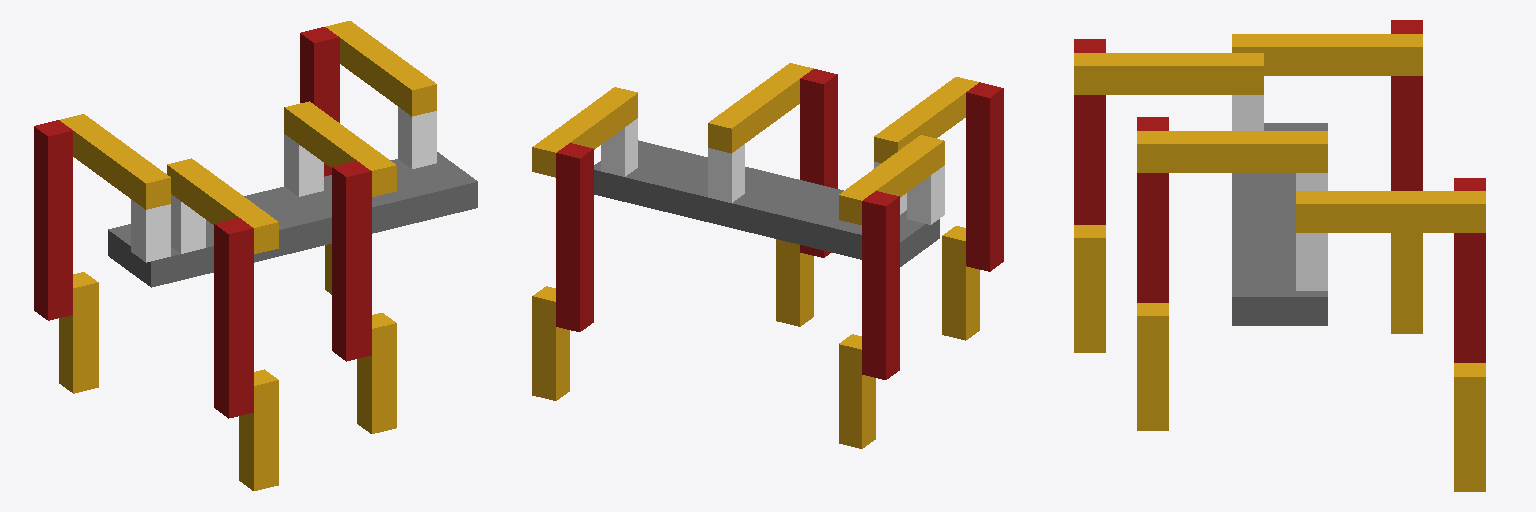
robot.urdf — v0:
<?xml version="1.0" encoding="utf-8"?>
<!-- =================================================================================== -->
<!-- |    This document was autogenerated by xacro from ../robots/v0variants/xacros/v0_4l_15.xacro | -->
<!-- |    EDITING THIS FILE BY HAND IS NOT RECOMMENDED                                 | -->
<!-- =================================================================================== -->
<robot name="v0">
  <material name="grey">
    <color rgba="0.5 0.5 0.5 1"/>
  </material>
  <material name="white">
    <color rgba="1 1 1 1"/>
  </material>
  <material name="yellow">
    <color rgba="0.91 0.7 0.14 1"/>
  </material>
  <material name="red">
    <color rgba="0.71 0.14 0.14 1"/>
  </material>
  <link name="body">
    <visual>
      <geometry>
        <box size="1.3 0.3 0.1"/>
      </geometry>
      <material name="grey"/>
      <origin rpy="0 0 0" xyz="0 0 0.7"/>
    </visual>
    <collision>
      <geometry>
        <box size="1.3 0.3 0.1"/>
      </geometry>
      <origin rpy="0 0 0" xyz="0 0 0.7"/>
    </collision>
    <inertial>
      <mass value="99.84"/>
      <inertia ixx="0.832" ixy="0.0" ixz="0.0" iyy="14.144" iyz="0.0" izz="14.8096"/>
    </inertial>
  </link>
  <link name="l1_segment_1">
    <visual>
      <geometry>
        <box size="0.1 0.1 0.2"/>
      </geometry>
      <material name="white"/>
      <origin rpy="0 0 0" xyz="0 0 0.1"/>
    </visual>
    <collision>
      <geometry>
        <box size="0.1 0.1 0.2"/>
      </geometry>
      <origin rpy="0 0 0" xyz="0 0 0.1"/>
    </collision>
    <inertial>
      <mass value="5.12"/>
      <inertia ixx="0.0213333333333" ixy="0.0" ixz="0.0" iyy="0.0213333333333" iyz="0.0" izz="0.00853333333333"/>
    </inertial>
  </link>
  <joint name="l1_base_to_joint_1" type="fixed">
    <parent link="body"/>
    <child link="l1_segment_1"/>
    <origin rpy="0 0 0" xyz="0.5525834745017667 0.1 0.75"/>
  </joint>
  <link name="l1_segment_2_HIP">
    <visual>
      <geometry>
        <box size="0.1 0.6 0.1"/>
      </geometry>
      <material name="yellow"/>
      <origin rpy="0 0 0" xyz="0 0.25 0"/>
    </visual>
    <collision>
      <geometry>
        <box size="0.1 0.6 0.1"/>
      </geometry>
      <origin rpy="0 0 0" xyz="0 0.25 0"/>
    </collision>
    <inertial>
      <mass value="15.36"/>
      <inertia ixx="0.4736" ixy="0.0" ixz="0.0" iyy="0.0256" iyz="0.0" izz="0.4736"/>
    </inertial>
  </link>
  <joint name="l1_joint_1_to_2" type="revolute">
    <parent link="l1_segment_1"/>
    <child link="l1_segment_2_HIP"/>
    <origin rpy="0 0 0" xyz="0 0 0.25"/>
    <axis xyz="0.0 0.0 1.0"/>
    <limit effort="2048" lower="-1.2" upper="1.2" velocity="20"/>
  </joint>
  <link name="l1_segment_3_THIGH">
    <visual>
      <geometry>
        <box size="0.1 0.1 0.7"/>
      </geometry>
      <material name="red"/>
      <origin rpy="0 0 0" xyz="0 0 -0.3"/>
    </visual>
    <collision>
      <geometry>
        <box size="0.1 0.1 0.7"/>
      </geometry>
      <origin rpy="0 0 0" xyz="0 0 -0.3"/>
    </collision>
    <inertial>
      <mass value="17.92"/>
      <inertia ixx="0.746666666667" ixy="0.0" ixz="0.0" iyy="0.746666666667" iyz="0.0" izz="0.0298666666667"/>
    </inertial>
  </link>
  <joint name="l1_joint_2_to_3" type="revolute">
    <parent link="l1_segment_2_HIP"/>
    <child link="l1_segment_3_THIGH"/>
    <origin rpy="0 0 0" xyz="-0.1 0.5 0"/>
    <axis xyz="1.0 0.0 0.0"/>
    <limit effort="2048" lower="-0.2" upper="0.75" velocity="20"/>
  </joint>
  <link name="l1_segment_4_FOOT">
    <visual>
      <geometry>
        <box size="0.1 0.1 0.4"/>
      </geometry>
      <material name="yellow"/>
      <origin rpy="0 0 0" xyz="0 0 -0.2"/>
    </visual>
    <collision>
      <geometry>
        <box size="0.1 0.1 0.4"/>
      </geometry>
      <origin rpy="0 0 0" xyz="0 0 -0.2"/>
    </collision>
    <inertial>
      <mass value="10.24"/>
      <inertia ixx="0.145066666667" ixy="0.0" ixz="0.0" iyy="0.145066666667" iyz="0.0" izz="0.0170666666667"/>
    </inertial>
  </link>
  <joint name="l1_joint_3_to_4_FOOT" type="revolute">
    <parent link="l1_segment_3_THIGH"/>
    <child link="l1_segment_4_FOOT"/>
    <origin rpy="0 0 0" xyz="0.1 0 -0.55"/>
    <axis xyz="1.0 0.0 0.0"/>
    <limit effort="2048" lower="-0.2" upper="0.5" velocity="20"/>
  </joint>
  <link name="r2_segment_1">
    <visual>
      <geometry>
        <box size="0.1 0.1 0.2"/>
      </geometry>
      <material name="white"/>
      <origin rpy="0 0 0" xyz="0 0 0.1"/>
    </visual>
    <collision>
      <geometry>
        <box size="0.1 0.1 0.2"/>
      </geometry>
      <origin rpy="0 0 0" xyz="0 0 0.1"/>
    </collision>
    <inertial>
      <mass value="5.12"/>
      <inertia ixx="0.0213333333333" ixy="0.0" ixz="0.0" iyy="0.0213333333333" iyz="0.0" izz="0.00853333333333"/>
    </inertial>
  </link>
  <joint name="r2_base_to_joint_1" type="fixed">
    <parent link="body"/>
    <child link="r2_segment_1"/>
    <origin rpy="0 0 0" xyz="0.10240938088572038 0.1 0.75"/>
  </joint>
  <link name="r2_segment_2_HIP">
    <visual>
      <geometry>
        <box size="0.1 0.6 0.1"/>
      </geometry>
      <material name="yellow"/>
      <origin rpy="0 0 0" xyz="0 -0.25 0"/>
    </visual>
    <collision>
      <geometry>
        <box size="0.1 0.6 0.1"/>
      </geometry>
      <origin rpy="0 0 0" xyz="0 -0.25 0"/>
    </collision>
    <inertial>
      <mass value="15.36"/>
      <inertia ixx="0.4736" ixy="0.0" ixz="0.0" iyy="0.0256" iyz="0.0" izz="0.4736"/>
    </inertial>
  </link>
  <joint name="r2_joint_1_to_2" type="revolute">
    <parent link="r2_segment_1"/>
    <child link="r2_segment_2_HIP"/>
    <origin rpy="0 0 0" xyz="0 0 0.25"/>
    <axis xyz="0.0 0.0 1.0"/>
    <limit effort="2048" lower="-1.2" upper="1.2" velocity="20"/>
  </joint>
  <link name="r2_segment_3_THIGH">
    <visual>
      <geometry>
        <box size="0.1 0.1 0.7"/>
      </geometry>
      <material name="red"/>
      <origin rpy="0 0 0" xyz="0 0 -0.3"/>
    </visual>
    <collision>
      <geometry>
        <box size="0.1 0.1 0.7"/>
      </geometry>
      <origin rpy="0 0 0" xyz="0 0 -0.3"/>
    </collision>
    <inertial>
      <mass value="17.92"/>
      <inertia ixx="0.746666666667" ixy="0.0" ixz="0.0" iyy="0.746666666667" iyz="0.0" izz="0.0298666666667"/>
    </inertial>
  </link>
  <joint name="r2_joint_2_to_3" type="revolute">
    <parent link="r2_segment_2_HIP"/>
    <child link="r2_segment_3_THIGH"/>
    <origin rpy="0 0 0" xyz="-0.1 -0.5 0"/>
    <axis xyz="1.0 0.0 0.0"/>
    <limit effort="2048" lower="-0.75" upper="0.2" velocity="20"/>
  </joint>
  <link name="r2_segment_4_FOOT">
    <visual>
      <geometry>
        <box size="0.1 0.1 0.4"/>
      </geometry>
      <material name="yellow"/>
      <origin rpy="0 0 0" xyz="0 0 -0.2"/>
    </visual>
    <collision>
      <geometry>
        <box size="0.1 0.1 0.4"/>
      </geometry>
      <origin rpy="0 0 0" xyz="0 0 -0.2"/>
    </collision>
    <inertial>
      <mass value="10.24"/>
      <inertia ixx="0.145066666667" ixy="0.0" ixz="0.0" iyy="0.145066666667" iyz="0.0" izz="0.0170666666667"/>
    </inertial>
  </link>
  <joint name="r2_joint_3_to_4_FOOT" type="revolute">
    <parent link="r2_segment_3_THIGH"/>
    <child link="r2_segment_4_FOOT"/>
    <origin rpy="0 0 0" xyz="0.1 0 -0.55"/>
    <axis xyz="1.0 0.0 0.0"/>
    <limit effort="2048" lower="-0.5" upper="0.2" velocity="20"/>
  </joint>
  <link name="l3_segment_1">
    <visual>
      <geometry>
        <box size="0.1 0.1 0.2"/>
      </geometry>
      <material name="white"/>
      <origin rpy="0 0 0" xyz="0 0 0.1"/>
    </visual>
    <collision>
      <geometry>
        <box size="0.1 0.1 0.2"/>
      </geometry>
      <origin rpy="0 0 0" xyz="0 0 0.1"/>
    </collision>
    <inertial>
      <mass value="5.12"/>
      <inertia ixx="0.0213333333333" ixy="0.0" ixz="0.0" iyy="0.0213333333333" iyz="0.0" izz="0.00853333333333"/>
    </inertial>
  </link>
  <joint name="l3_base_to_joint_1" type="fixed">
    <parent link="body"/>
    <child link="l3_segment_1"/>
    <origin rpy="0 0 0" xyz="-0.6210148901147661 -0.1 0.75"/>
  </joint>
  <link name="l3_segment_2_HIP">
    <visual>
      <geometry>
        <box size="0.1 0.6 0.1"/>
      </geometry>
      <material name="yellow"/>
      <origin rpy="0 0 0" xyz="0 0.25 0"/>
    </visual>
    <collision>
      <geometry>
        <box size="0.1 0.6 0.1"/>
      </geometry>
      <origin rpy="0 0 0" xyz="0 0.25 0"/>
    </collision>
    <inertial>
      <mass value="15.36"/>
      <inertia ixx="0.4736" ixy="0.0" ixz="0.0" iyy="0.0256" iyz="0.0" izz="0.4736"/>
    </inertial>
  </link>
  <joint name="l3_joint_1_to_2" type="revolute">
    <parent link="l3_segment_1"/>
    <child link="l3_segment_2_HIP"/>
    <origin rpy="0 0 0" xyz="0 0 0.25"/>
    <axis xyz="0.0 0.0 1.0"/>
    <limit effort="2048" lower="-1.2" upper="1.2" velocity="20"/>
  </joint>
  <link name="l3_segment_3_THIGH">
    <visual>
      <geometry>
        <box size="0.1 0.1 0.7"/>
      </geometry>
      <material name="red"/>
      <origin rpy="0 0 0" xyz="0 0 -0.3"/>
    </visual>
    <collision>
      <geometry>
        <box size="0.1 0.1 0.7"/>
      </geometry>
      <origin rpy="0 0 0" xyz="0 0 -0.3"/>
    </collision>
    <inertial>
      <mass value="17.92"/>
      <inertia ixx="0.746666666667" ixy="0.0" ixz="0.0" iyy="0.746666666667" iyz="0.0" izz="0.0298666666667"/>
    </inertial>
  </link>
  <joint name="l3_joint_2_to_3" type="revolute">
    <parent link="l3_segment_2_HIP"/>
    <child link="l3_segment_3_THIGH"/>
    <origin rpy="0 0 0" xyz="-0.1 0.5 0"/>
    <axis xyz="1.0 0.0 0.0"/>
    <limit effort="2048" lower="-0.2" upper="0.75" velocity="20"/>
  </joint>
  <link name="l3_segment_4_FOOT">
    <visual>
      <geometry>
        <box size="0.1 0.1 0.4"/>
      </geometry>
      <material name="yellow"/>
      <origin rpy="0 0 0" xyz="0 0 -0.2"/>
    </visual>
    <collision>
      <geometry>
        <box size="0.1 0.1 0.4"/>
      </geometry>
      <origin rpy="0 0 0" xyz="0 0 -0.2"/>
    </collision>
    <inertial>
      <mass value="10.24"/>
      <inertia ixx="0.145066666667" ixy="0.0" ixz="0.0" iyy="0.145066666667" iyz="0.0" izz="0.0170666666667"/>
    </inertial>
  </link>
  <joint name="l3_joint_3_to_4_FOOT" type="revolute">
    <parent link="l3_segment_3_THIGH"/>
    <child link="l3_segment_4_FOOT"/>
    <origin rpy="0 0 0" xyz="0.1 0 -0.55"/>
    <axis xyz="1.0 0.0 0.0"/>
    <limit effort="2048" lower="-0.2" upper="0.5" velocity="20"/>
  </joint>
  <link name="r4_segment_1">
    <visual>
      <geometry>
        <box size="0.1 0.1 0.2"/>
      </geometry>
      <material name="white"/>
      <origin rpy="0 0 0" xyz="0 0 0.1"/>
    </visual>
    <collision>
      <geometry>
        <box size="0.1 0.1 0.2"/>
      </geometry>
      <origin rpy="0 0 0" xyz="0 0 0.1"/>
    </collision>
    <inertial>
      <mass value="5.12"/>
      <inertia ixx="0.0213333333333" ixy="0.0" ixz="0.0" iyy="0.0213333333333" iyz="0.0" izz="0.00853333333333"/>
    </inertial>
  </link>
  <joint name="r4_base_to_joint_1" type="fixed">
    <parent link="body"/>
    <child link="r4_segment_1"/>
    <origin rpy="0 0 0" xyz="-0.48081717268342605 -0.1 0.75"/>
  </joint>
  <link name="r4_segment_2_HIP">
    <visual>
      <geometry>
        <box size="0.1 0.6 0.1"/>
      </geometry>
      <material name="yellow"/>
      <origin rpy="0 0 0" xyz="0 -0.25 0"/>
    </visual>
    <collision>
      <geometry>
        <box size="0.1 0.6 0.1"/>
      </geometry>
      <origin rpy="0 0 0" xyz="0 -0.25 0"/>
    </collision>
    <inertial>
      <mass value="15.36"/>
      <inertia ixx="0.4736" ixy="0.0" ixz="0.0" iyy="0.0256" iyz="0.0" izz="0.4736"/>
    </inertial>
  </link>
  <joint name="r4_joint_1_to_2" type="revolute">
    <parent link="r4_segment_1"/>
    <child link="r4_segment_2_HIP"/>
    <origin rpy="0 0 0" xyz="0 0 0.25"/>
    <axis xyz="0.0 0.0 1.0"/>
    <limit effort="2048" lower="-1.2" upper="1.2" velocity="20"/>
  </joint>
  <link name="r4_segment_3_THIGH">
    <visual>
      <geometry>
        <box size="0.1 0.1 0.7"/>
      </geometry>
      <material name="red"/>
      <origin rpy="0 0 0" xyz="0 0 -0.3"/>
    </visual>
    <collision>
      <geometry>
        <box size="0.1 0.1 0.7"/>
      </geometry>
      <origin rpy="0 0 0" xyz="0 0 -0.3"/>
    </collision>
    <inertial>
      <mass value="17.92"/>
      <inertia ixx="0.746666666667" ixy="0.0" ixz="0.0" iyy="0.746666666667" iyz="0.0" izz="0.0298666666667"/>
    </inertial>
  </link>
  <joint name="r4_joint_2_to_3" type="revolute">
    <parent link="r4_segment_2_HIP"/>
    <child link="r4_segment_3_THIGH"/>
    <origin rpy="0 0 0" xyz="-0.1 -0.5 0"/>
    <axis xyz="1.0 0.0 0.0"/>
    <limit effort="2048" lower="-0.75" upper="0.2" velocity="20"/>
  </joint>
  <link name="r4_segment_4_FOOT">
    <visual>
      <geometry>
        <box size="0.1 0.1 0.4"/>
      </geometry>
      <material name="yellow"/>
      <origin rpy="0 0 0" xyz="0 0 -0.2"/>
    </visual>
    <collision>
      <geometry>
        <box size="0.1 0.1 0.4"/>
      </geometry>
      <origin rpy="0 0 0" xyz="0 0 -0.2"/>
    </collision>
    <inertial>
      <mass value="10.24"/>
      <inertia ixx="0.145066666667" ixy="0.0" ixz="0.0" iyy="0.145066666667" iyz="0.0" izz="0.0170666666667"/>
    </inertial>
  </link>
  <joint name="r4_joint_3_to_4_FOOT" type="revolute">
    <parent link="r4_segment_3_THIGH"/>
    <child link="r4_segment_4_FOOT"/>
    <origin rpy="0 0 0" xyz="0.1 0 -0.55"/>
    <axis xyz="1.0 0.0 0.0"/>
    <limit effort="2048" lower="-0.5" upper="0.2" velocity="20"/>
  </joint>
</robot>

--- Render facts (derived) ---
The picture shows the robot from 3 angles, left to right: view 1: azimuth 30°, elevation 25°; view 2: azimuth 150°, elevation 25°; view 3: azimuth 270°, elevation 25°; orthographic projection.
Model v0 with 17 links and 16 joints (12 revolute, 4 fixed), rooted at body, posed all joints at 0.
Links seen in each view (by area): view 1: body, r4_segment_3_THIGH, r2_segment_3_THIGH, l3_segment_3_THIGH, l3_segment_2_HIP, l1_segment_2_HIP, r2_segment_2_HIP, r4_segment_2_HIP, l3_segment_4_FOOT, r2_segment_4_FOOT, r4_segment_4_FOOT, l1_segment_3_THIGH (+4 smaller); view 2: body, r4_segment_3_THIGH, l1_segment_3_THIGH, l3_segment_3_THIGH, r2_segment_3_THIGH, r2_segment_2_HIP, l1_segment_2_HIP, l3_segment_2_HIP, r4_segment_2_HIP, l1_segment_4_FOOT, r4_segment_4_FOOT, l3_segment_4_FOOT (+4 smaller); view 3: body, r2_segment_2_HIP, l1_segment_2_HIP, r4_segment_2_HIP, l3_segment_2_HIP, r2_segment_3_THIGH, r4_segment_3_THIGH, l1_segment_3_THIGH, l1_segment_4_FOOT, l3_segment_3_THIGH, r2_segment_4_FOOT, r4_segment_4_FOOT (+4 smaller).
Link boxes in pixels (bbox=[...]): body: bbox=[108, 152, 477, 287]; r4_segment_3_THIGH: bbox=[214, 218, 253, 418]; r2_segment_3_THIGH: bbox=[332, 161, 371, 361]; l3_segment_3_THIGH: bbox=[34, 120, 72, 320]; l3_segment_2_HIP: bbox=[60, 114, 170, 209]; l1_segment_2_HIP: bbox=[326, 21, 436, 116]; r2_segment_2_HIP: bbox=[284, 101, 396, 196]; r4_segment_2_HIP: bbox=[167, 158, 278, 253]; l3_segment_4_FOOT: bbox=[59, 272, 98, 393]; r2_segment_4_FOOT: bbox=[357, 313, 396, 433]; r4_segment_4_FOOT: bbox=[239, 369, 278, 490]; l1_segment_3_THIGH: bbox=[300, 27, 339, 176]; body: bbox=[594, 140, 939, 266]; r4_segment_3_THIGH: bbox=[966, 82, 1003, 271]; l1_segment_3_THIGH: bbox=[556, 143, 593, 331]; l3_segment_3_THIGH: bbox=[862, 191, 899, 379]; r2_segment_3_THIGH: bbox=[800, 69, 837, 257]; r2_segment_2_HIP: bbox=[708, 63, 813, 153]; l1_segment_2_HIP: bbox=[532, 87, 637, 177]; l3_segment_2_HIP: bbox=[839, 135, 944, 224]; r4_segment_2_HIP: bbox=[874, 77, 978, 162]; l1_segment_4_FOOT: bbox=[532, 286, 569, 400]; r4_segment_4_FOOT: bbox=[942, 226, 979, 340]; l3_segment_4_FOOT: bbox=[839, 334, 875, 448]; body: bbox=[1232, 123, 1327, 325]; r2_segment_2_HIP: bbox=[1137, 131, 1327, 172]; l1_segment_2_HIP: bbox=[1296, 191, 1485, 232]; r4_segment_2_HIP: bbox=[1074, 53, 1263, 94]; l3_segment_2_HIP: bbox=[1232, 34, 1422, 75]; r2_segment_3_THIGH: bbox=[1137, 117, 1168, 302]; r4_segment_3_THIGH: bbox=[1074, 39, 1105, 224]; l1_segment_3_THIGH: bbox=[1454, 178, 1485, 362]; l1_segment_4_FOOT: bbox=[1454, 363, 1485, 491]; l3_segment_3_THIGH: bbox=[1391, 20, 1422, 190]; r2_segment_4_FOOT: bbox=[1137, 303, 1168, 430]; r4_segment_4_FOOT: bbox=[1074, 225, 1105, 352].
Size in the robot's own frame: 1.42 by 1.3 by 1 metres.
Geometry: primitives only (box / cylinder / sphere), no mesh files.